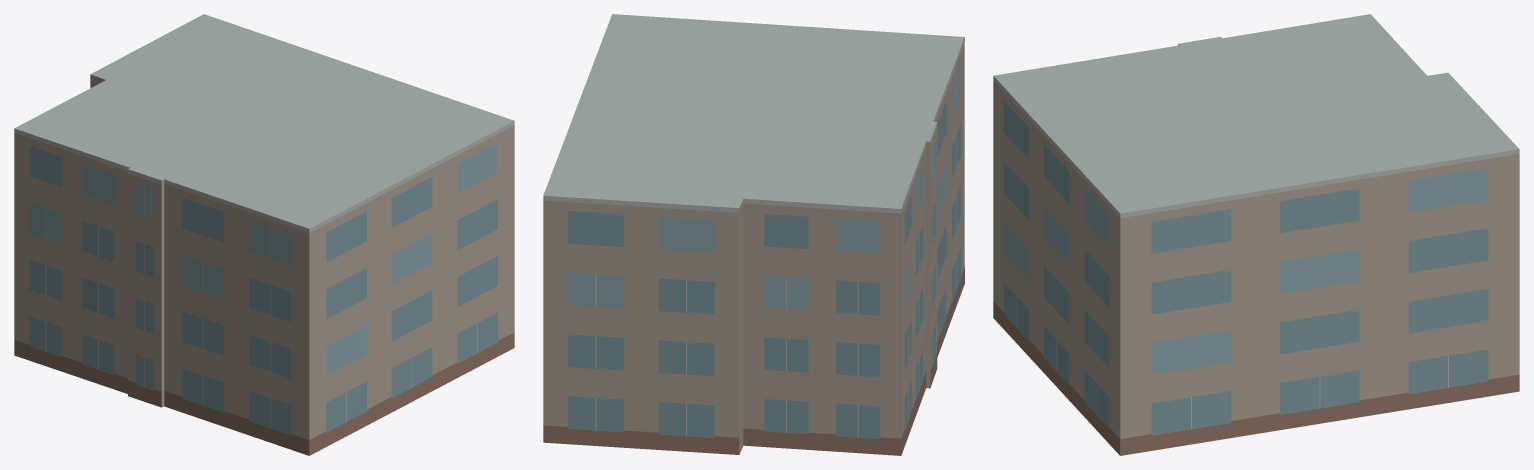
The model's file is survey-upis-32838057.glb.
The picture shows the model from 3 angles, left to right: view 1: azimuth 30°, elevation 25°; view 2: azimuth 150°, elevation 25°; view 3: azimuth 270°, elevation 25°; orthographic projection. The views are drawn at different scales.
Parts seen in each view (by area): view 1: survey-upis-32838057.tmp; view 2: survey-upis-32838057.tmp; view 3: survey-upis-32838057.tmp.
Boxes of the visible parts, bbox=[...] form: survey-upis-32838057.tmp: bbox=[14, 14, 514, 455]; survey-upis-32838057.tmp: bbox=[543, 14, 964, 455]; survey-upis-32838057.tmp: bbox=[993, 14, 1519, 455].
Size of the model in its own units: 22.44 by 12.7 by 25.
